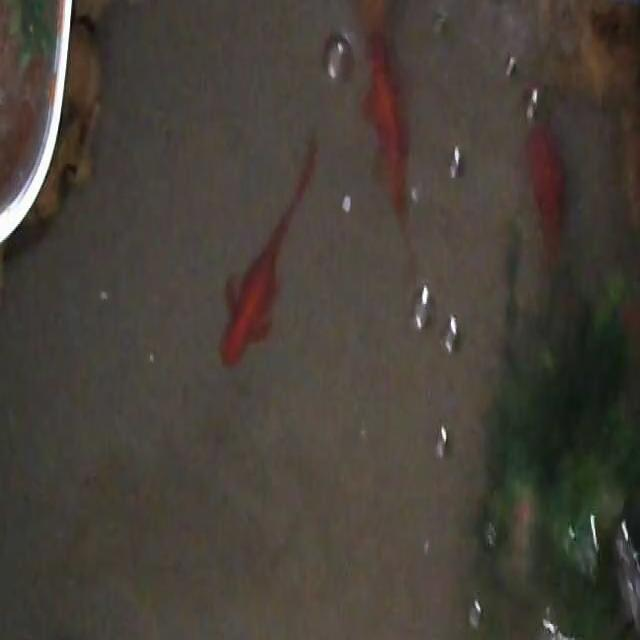fish: (219, 132, 319, 370), (360, 25, 410, 222), (524, 114, 567, 276)
